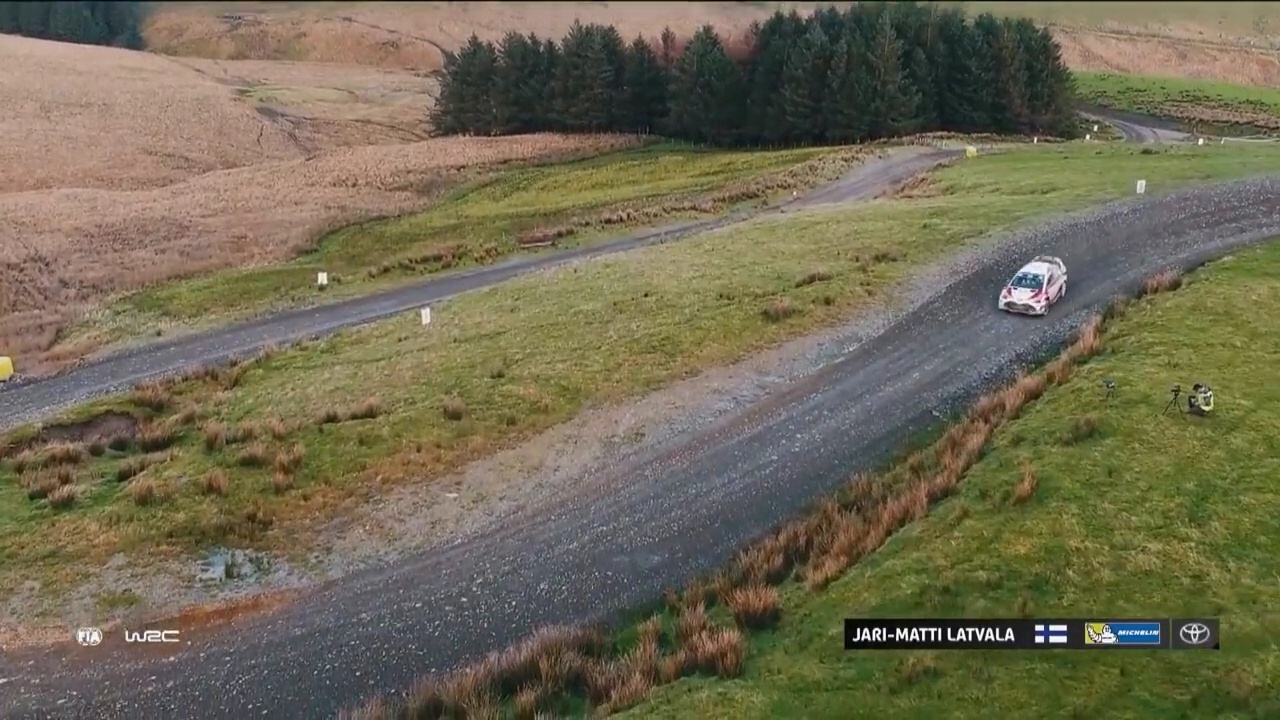araba: (999, 253, 1067, 318)
